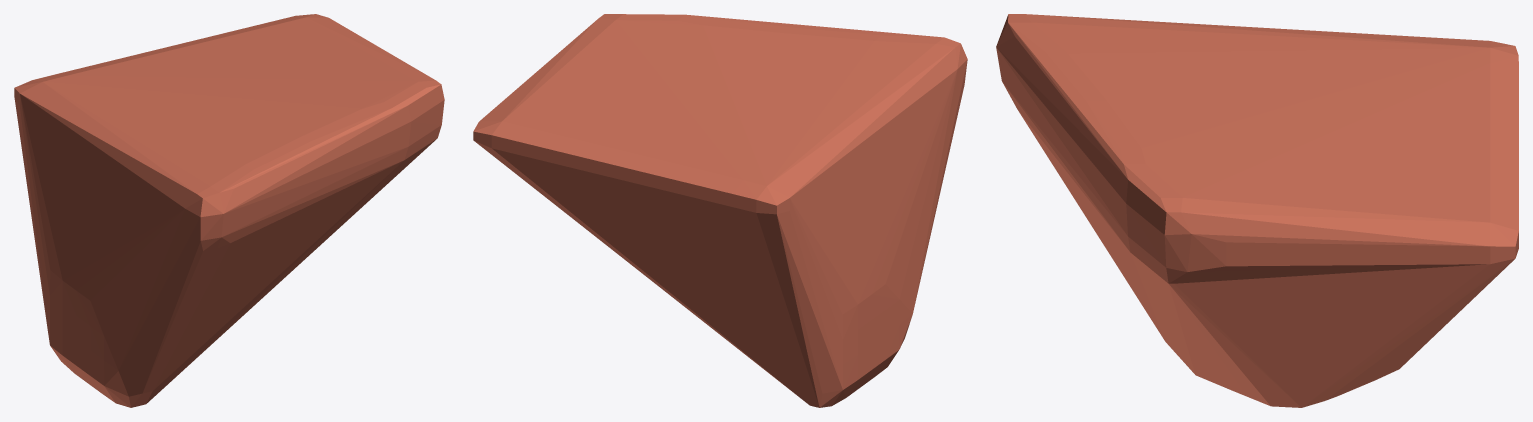
File: left-hip-yaw-0_part_9.obj
3 renders of one model, left to right at view 1: azimuth 30°, elevation 25°; view 2: azimuth 150°, elevation 25°; view 3: azimuth 270°, elevation 25°, orthographic. The views are drawn at different scales.
Bounding box in the file's own units: 0.0267 × 0.0216 × 0.0275.
